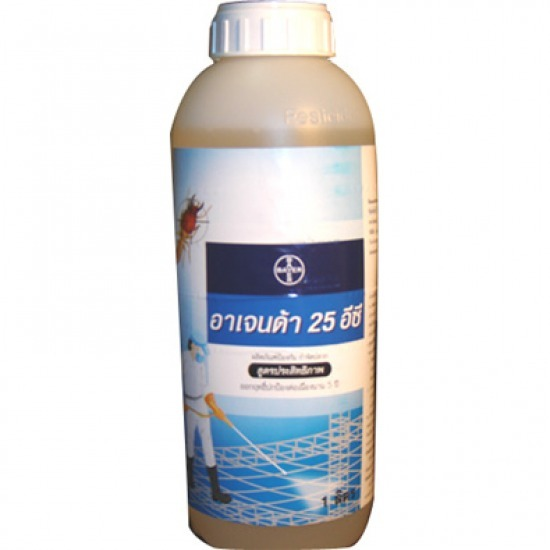Insecticide: (161, 1, 389, 550)
